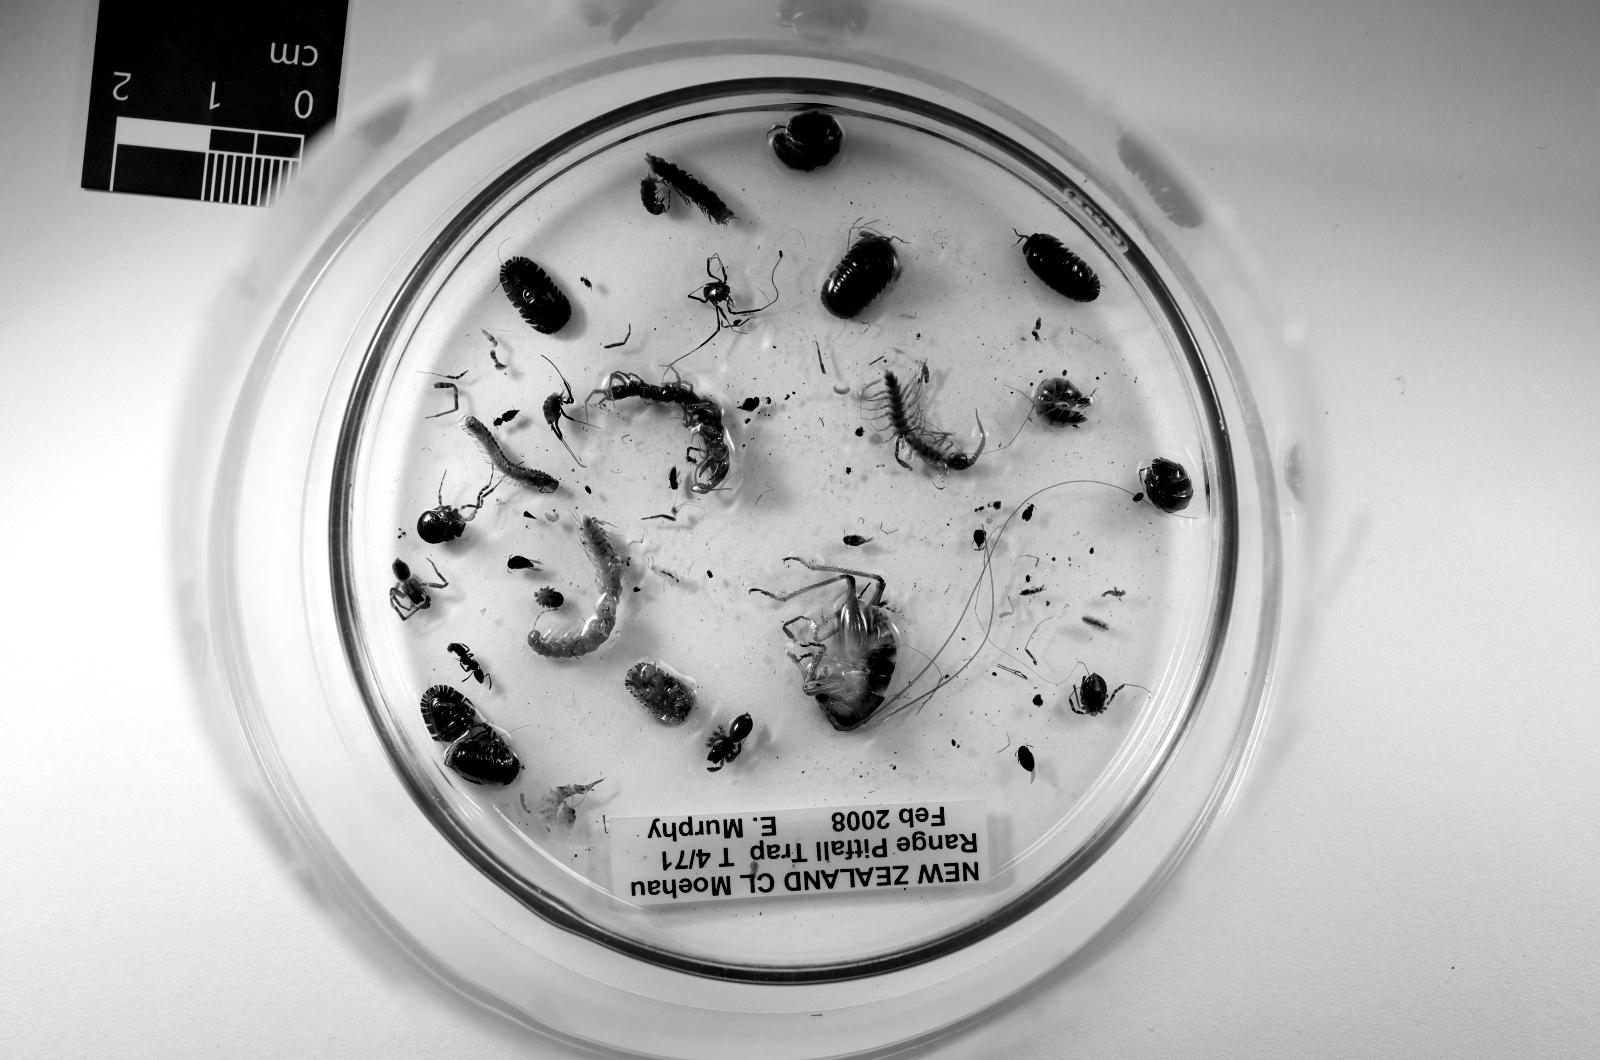araneae: (391, 559, 447, 621), (706, 714, 753, 773)
chilopoda: (584, 373, 731, 494), (859, 363, 984, 472)
coleoptera: (506, 556, 541, 571), (1016, 745, 1034, 773), (494, 410, 519, 425), (844, 534, 866, 547), (1022, 503, 1034, 522), (741, 398, 759, 410)
collembola: (1019, 587, 1044, 596)
diplopoda: (528, 516, 631, 658), (462, 416, 559, 494)
formicidae: (447, 643, 484, 683)
isopoda: (822, 236, 900, 320), (500, 258, 572, 332), (1022, 233, 1100, 301), (769, 109, 844, 171), (625, 661, 694, 724), (447, 736, 522, 786), (419, 686, 481, 742), (1141, 460, 1194, 512), (1034, 379, 1091, 425)
opiliones: (688, 255, 766, 332), (419, 484, 497, 543), (1069, 674, 1122, 717), (544, 379, 575, 447), (534, 587, 566, 609)
orthoptera: (766, 556, 897, 730)
